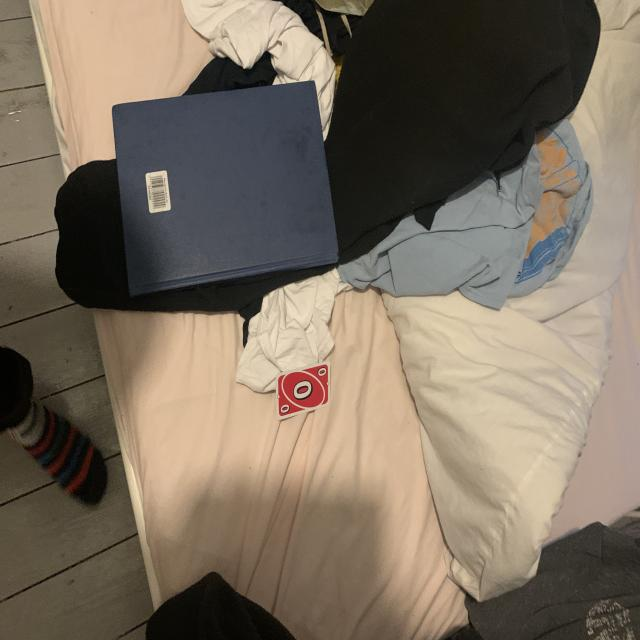lred-0: (316, 366, 328, 379)
